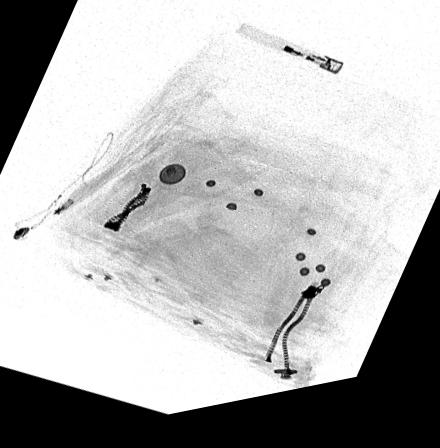Lighter: (233, 31, 345, 90)
